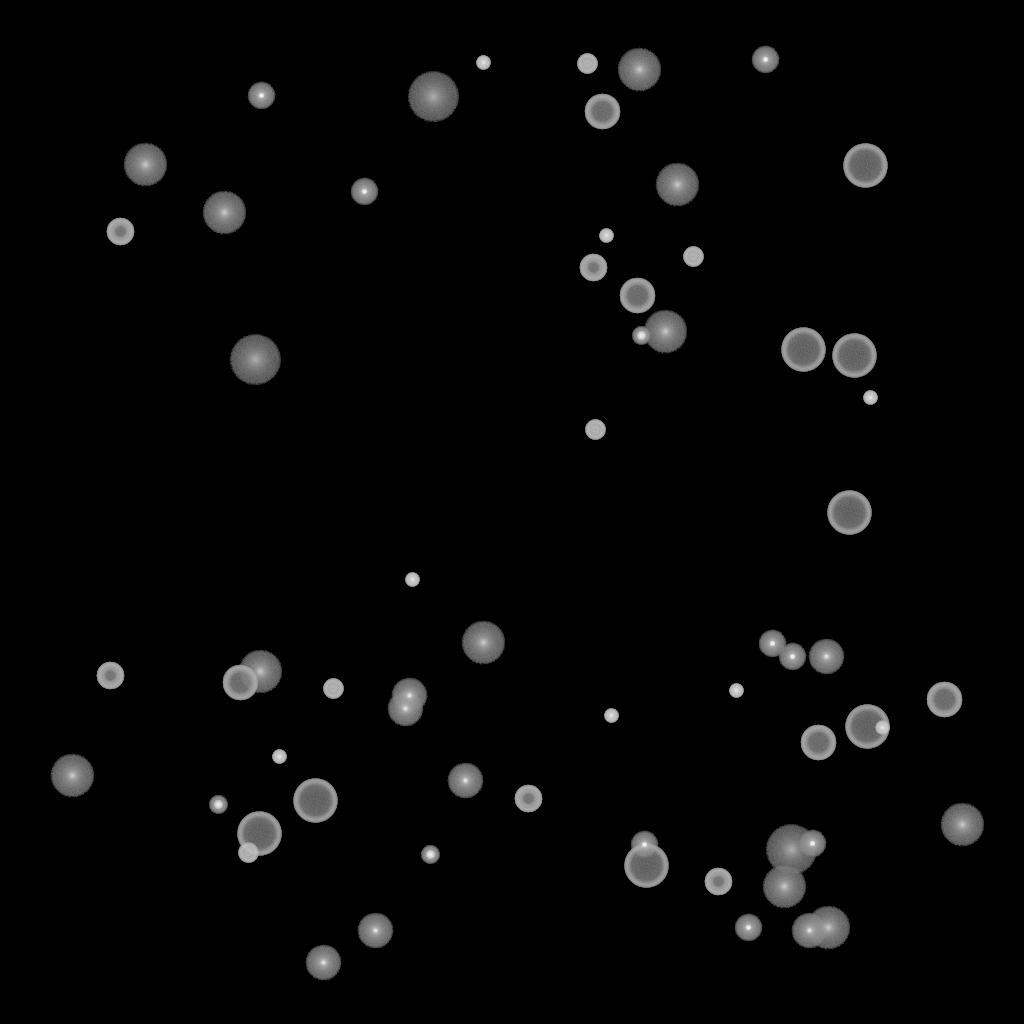depth:-10: (734, 914, 762, 942), (798, 830, 826, 858), (630, 831, 658, 859), (758, 630, 786, 658), (778, 643, 806, 671), (751, 46, 779, 74), (350, 178, 378, 206), (247, 82, 275, 110)
depth:-20: (421, 846, 439, 864), (632, 327, 650, 345), (209, 796, 227, 814)
depth:-30: (272, 750, 286, 764), (599, 229, 613, 243), (875, 721, 889, 735), (729, 684, 743, 698), (863, 391, 877, 405), (405, 573, 419, 587), (476, 56, 490, 70), (604, 709, 618, 723)
depth:-40: (577, 54, 597, 74), (585, 420, 605, 440), (683, 247, 703, 267), (323, 679, 343, 699), (238, 843, 258, 863)
depth:-50: (579, 254, 607, 282), (514, 785, 542, 813), (106, 218, 134, 246), (704, 868, 732, 896), (96, 662, 124, 690)
depth:-60: (619, 278, 655, 314), (584, 94, 620, 130), (800, 725, 836, 761), (926, 682, 962, 718), (222, 665, 258, 701)
depth:-70: (843, 144, 887, 188), (293, 779, 337, 823), (845, 705, 889, 749), (624, 844, 668, 888), (237, 812, 281, 856), (781, 328, 825, 372), (832, 334, 876, 378), (827, 491, 871, 535)
depth:0: (357, 913, 393, 949), (305, 945, 341, 981), (391, 678, 427, 714), (808, 639, 844, 675), (387, 691, 423, 727), (447, 763, 483, 799), (791, 913, 827, 949)
depth:10: (940, 803, 984, 847), (617, 48, 661, 92), (238, 650, 282, 694), (643, 310, 687, 354), (123, 143, 167, 187), (806, 906, 850, 950), (50, 754, 94, 798), (461, 621, 505, 665), (202, 191, 246, 235), (762, 865, 806, 909), (655, 163, 699, 207)
depth:20: (765, 825, 817, 875), (407, 72, 459, 122), (229, 335, 281, 385)
